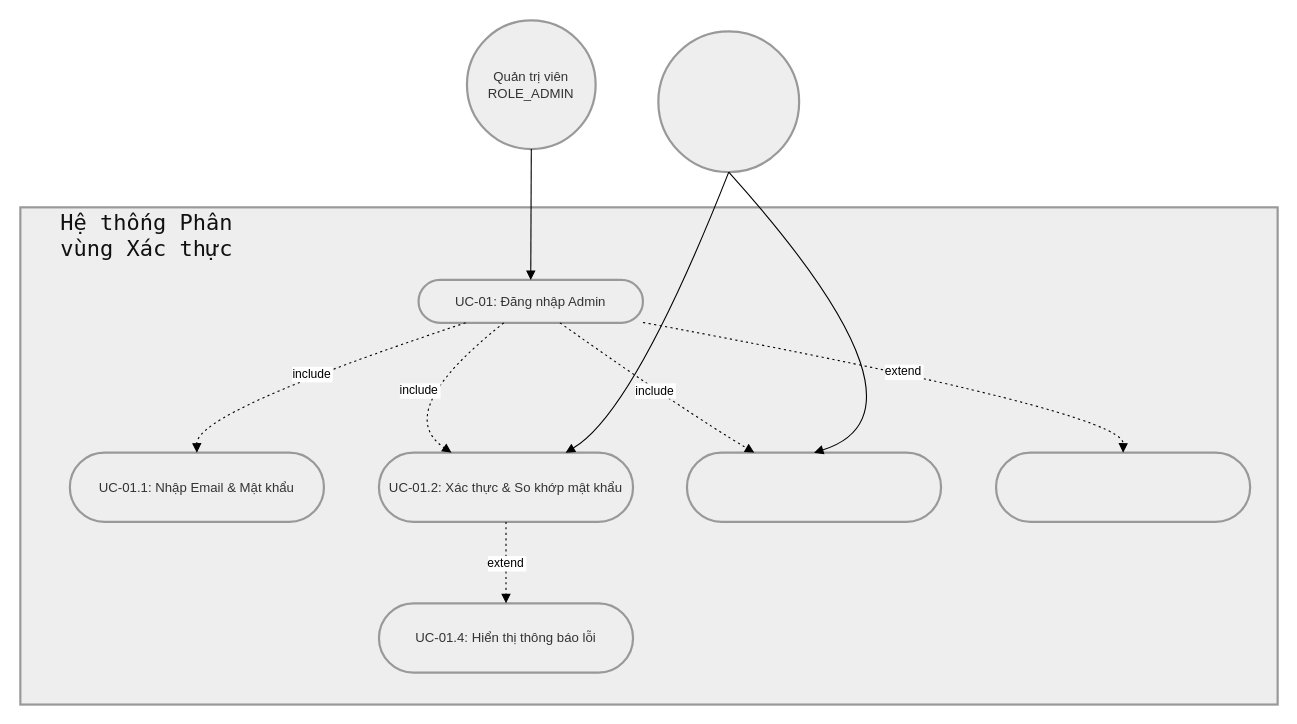
This 1297x724 diagram has some shape labels left out. The shapes that lost their labels are listed below. From the top down, each one's centre as x and y in pixels, then its label:
point (728, 101): Spring Security System
point (813, 486): UC-01.3: Điều hướng theo vai trò ROLE_ADMIN
point (1122, 486): UC-01.5: Ghi nhớ đăng nhập
